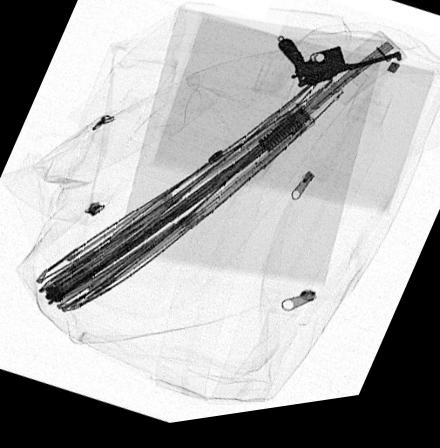Gun: (275, 44, 402, 95)
